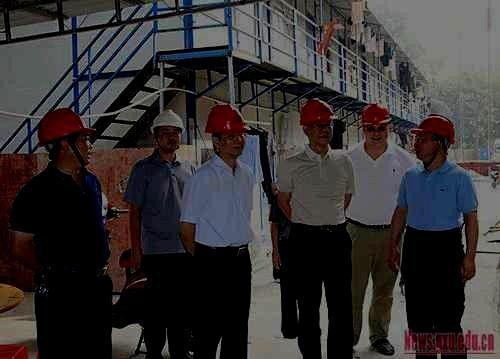helmet: (37, 108, 97, 167), (204, 103, 248, 156), (409, 113, 455, 160), (299, 97, 339, 144), (150, 109, 185, 153), (360, 102, 392, 144)
